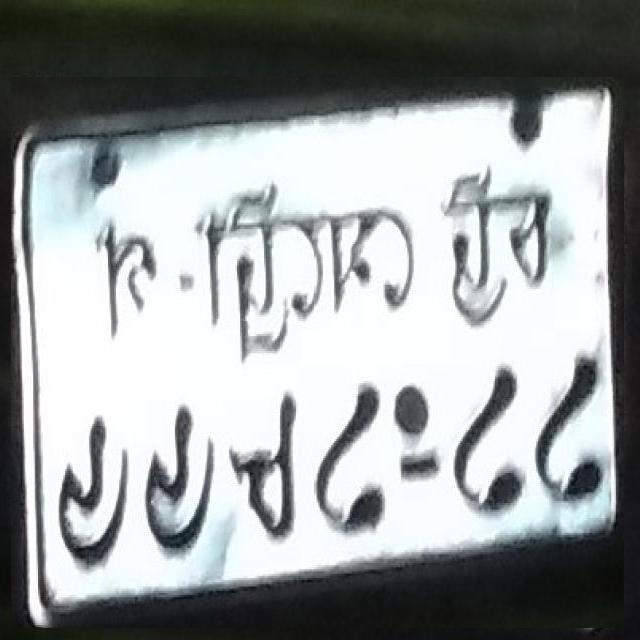numberplate: (11, 77, 624, 628)
